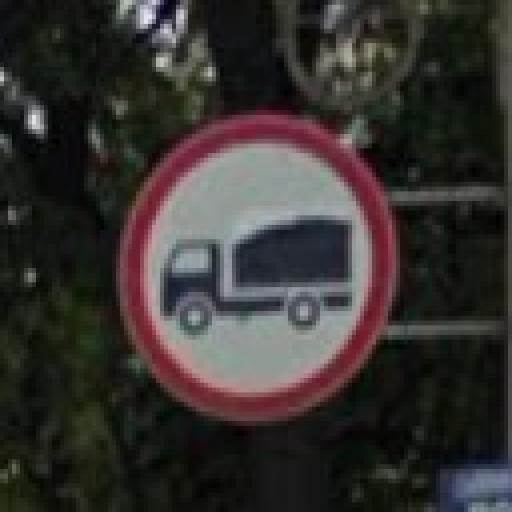traffic_sign: (117, 116, 397, 432)
